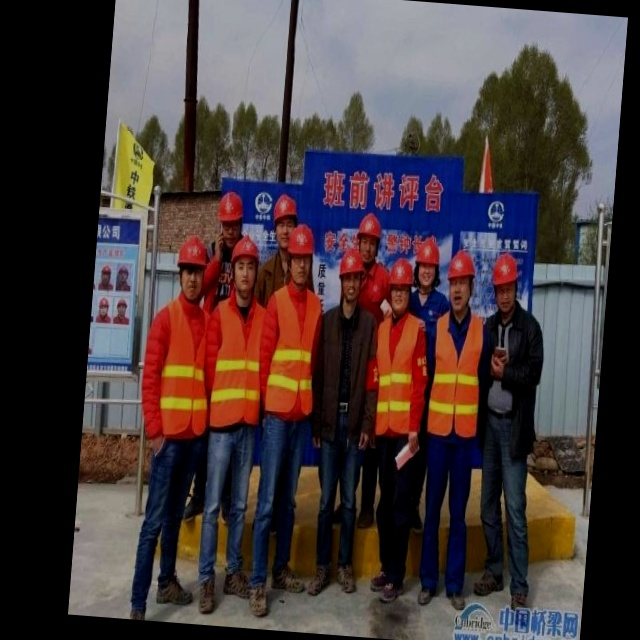Con_Casco: (335, 246, 367, 307)
Con_Chaleco: (264, 282, 324, 434), (152, 295, 213, 441), (210, 296, 270, 431), (368, 315, 431, 443), (428, 315, 486, 436)
Sin_Chaleco: (477, 309, 546, 441)
